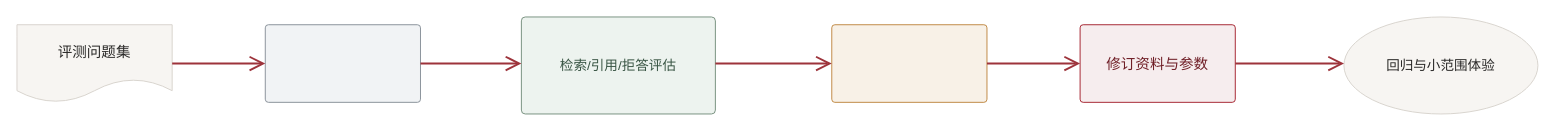
Some shapes in this 1555 by 131 pixel diagram are drawn without their labels. Each missing label, with the centre of its shape:
"离线运行" belongs at pixel 342 63.
"误差归因" belongs at pixel 909 63.
